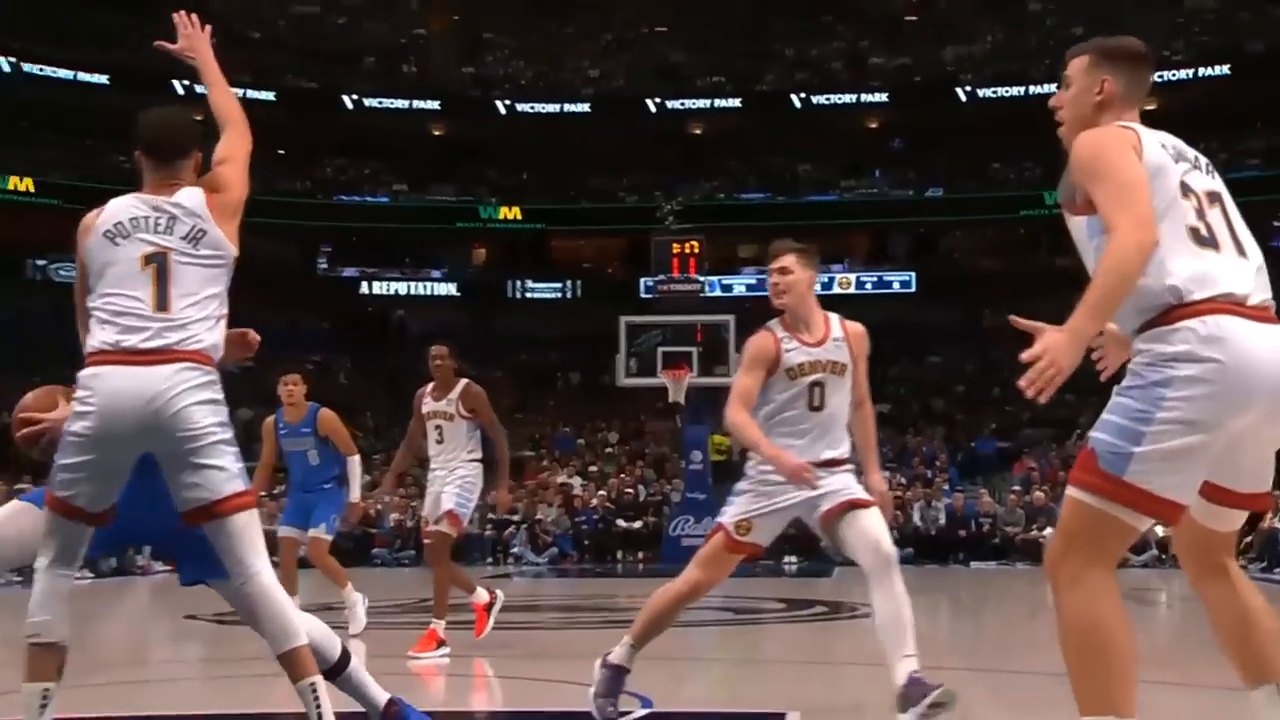ball: (3, 376, 99, 472)
net: (655, 366, 695, 405)
